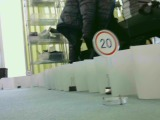speed_20: (91, 29, 120, 56)
